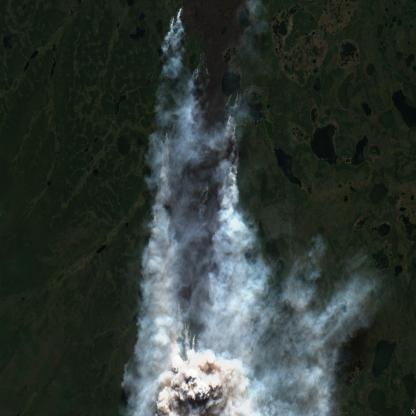fire: (146, 0, 258, 416)
